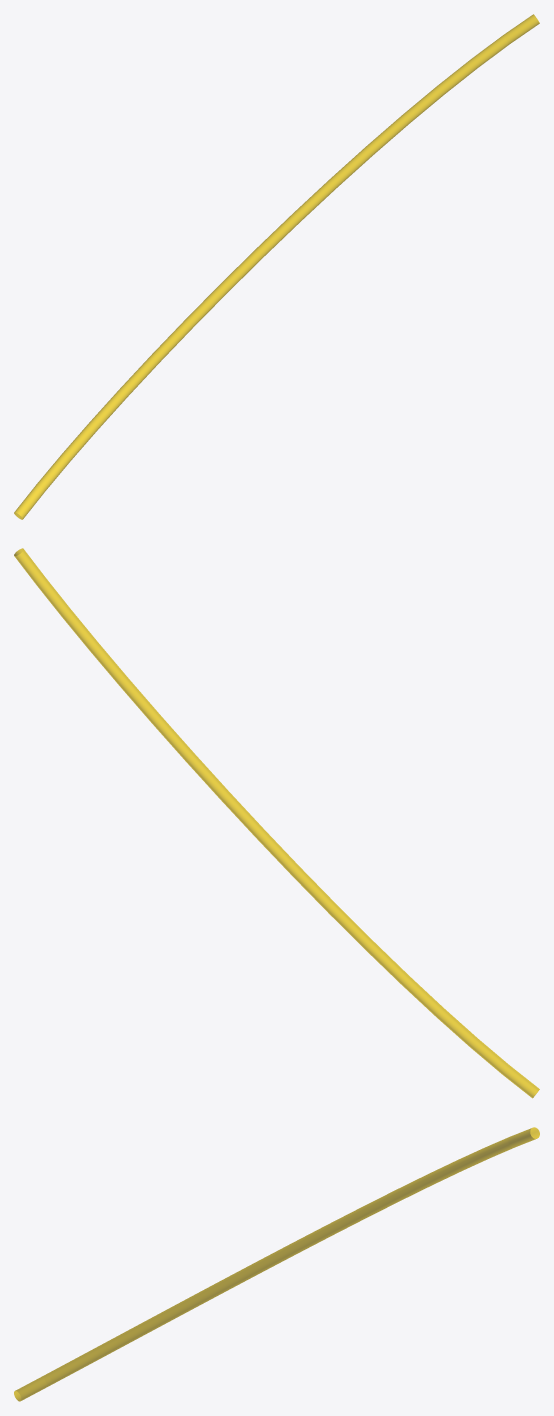
Rendered from Event_15818458_track_24.fbx.
3 views of the same model, one above another, from view 1: azimuth 30°, elevation 25°; view 2: azimuth 150°, elevation 25°; view 3: azimuth 330°, elevation 25° (orthographic). The views are drawn at different scales.
Visible parts, largest first — view 1: Model; view 2: Model; view 3: Model.
Part boxes in pixels (x1,y1,x2,y2): Model: [14, 14, 539, 519]; Model: [14, 548, 539, 1098]; Model: [14, 1127, 539, 1401].
Size of the model in its own units: 2.08 by 1.52 by 0.2088.
